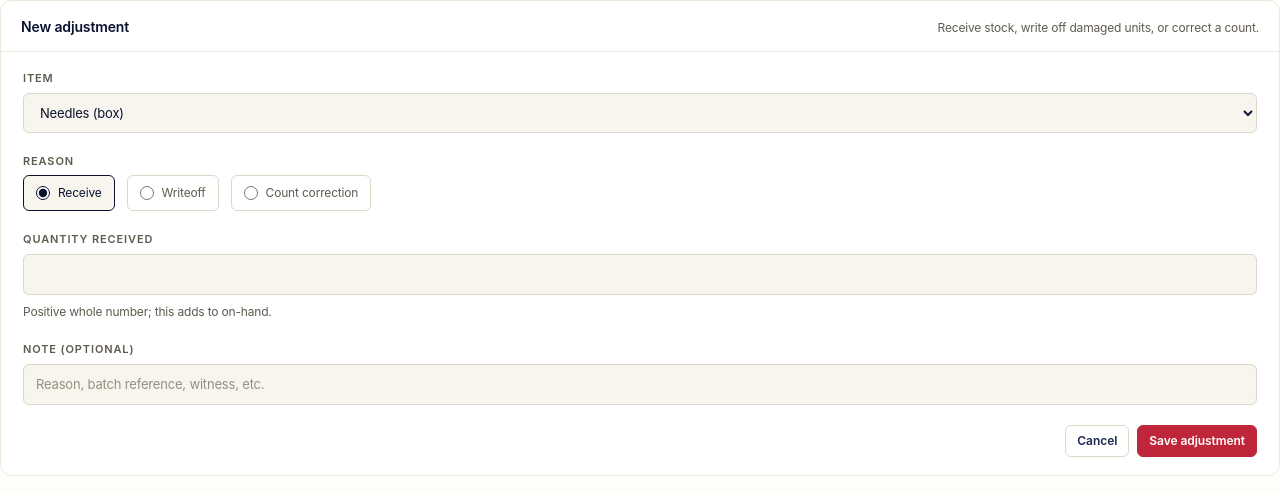
Test: Phase-09 §8 component-render: AdjustForm (dir=ltr) › submit is disabled while the mutation is in-flight and the label flips to the localized Saving copy
Type "5" into the number field with id "adjust-delta" at (640, 274), box [23,254,1257,295]
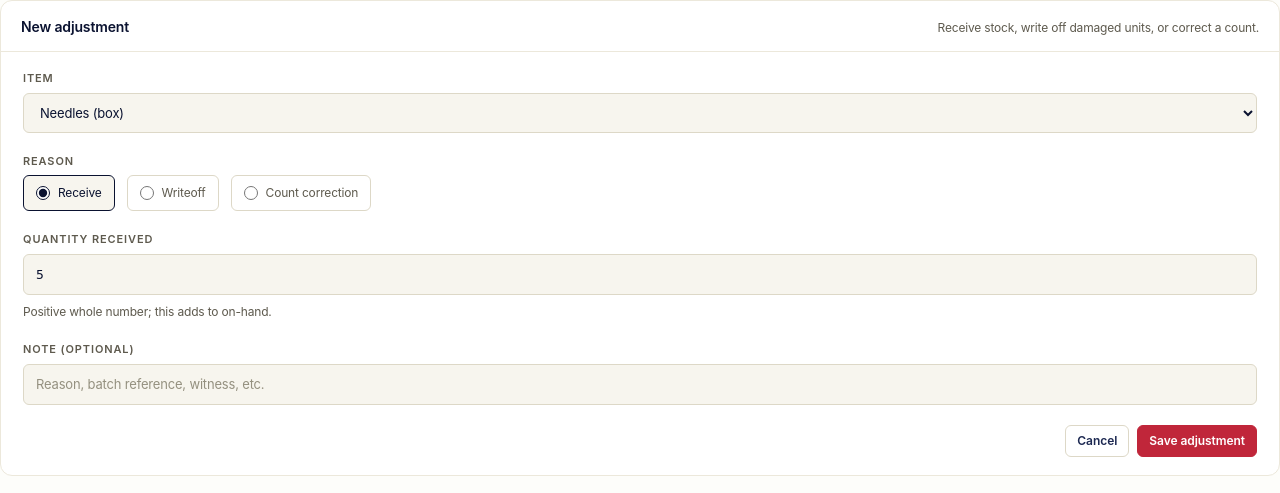
Submit the form
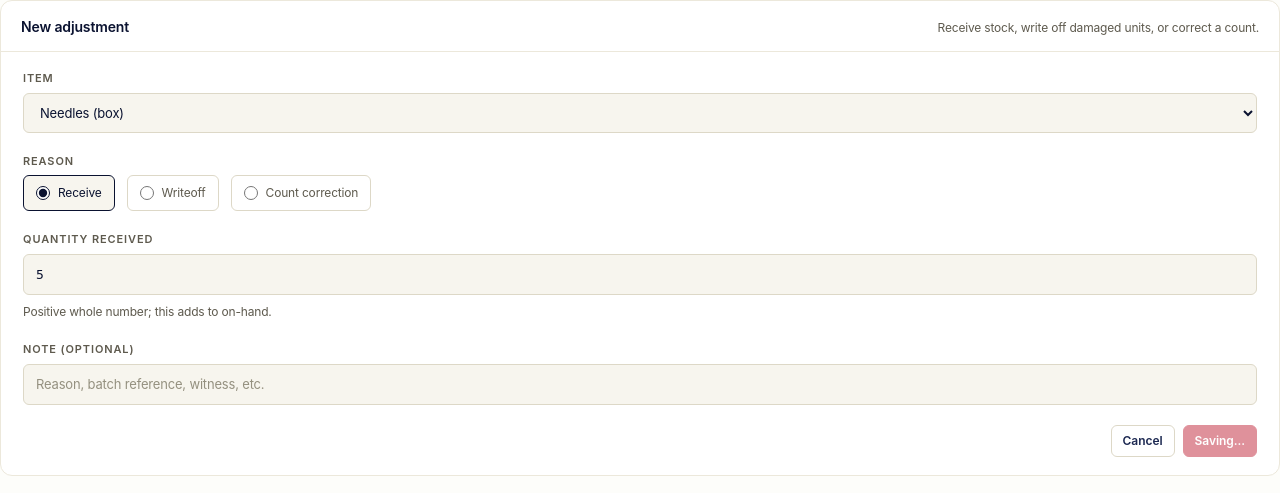
Now the submit button is disabled, box [1182,425,1257,457]
